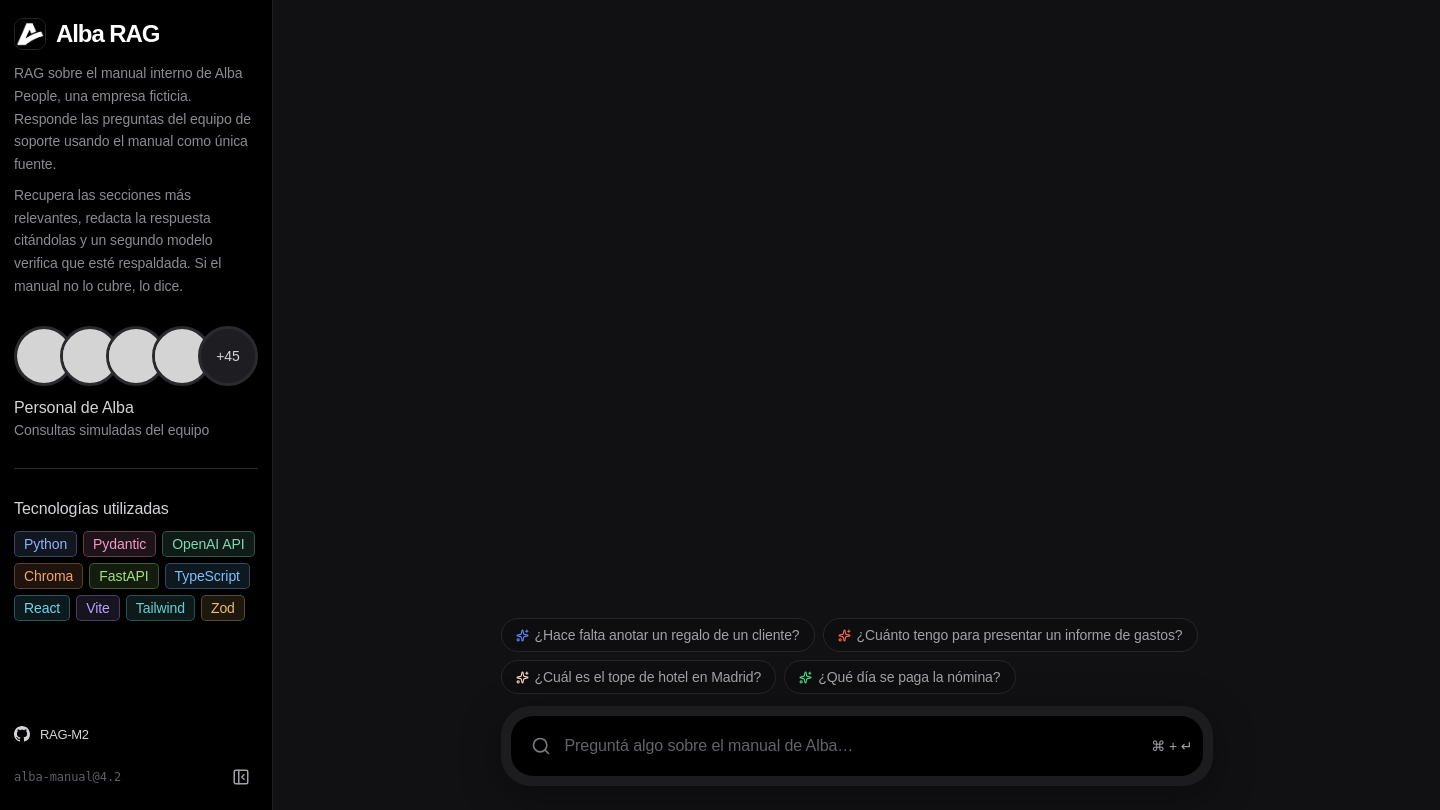
WorkbenchContainer › asks the question, renders the answer with its sources and detail card, and opens the panel state when the card is clicked
The width and height of the screenshot is (1440, 810).
Type "¿Cómo solicito vacaciones?" into the field named "Escribí tu pregunta" at [851, 746], box x1=564 y1=734 x2=1137 y2=758
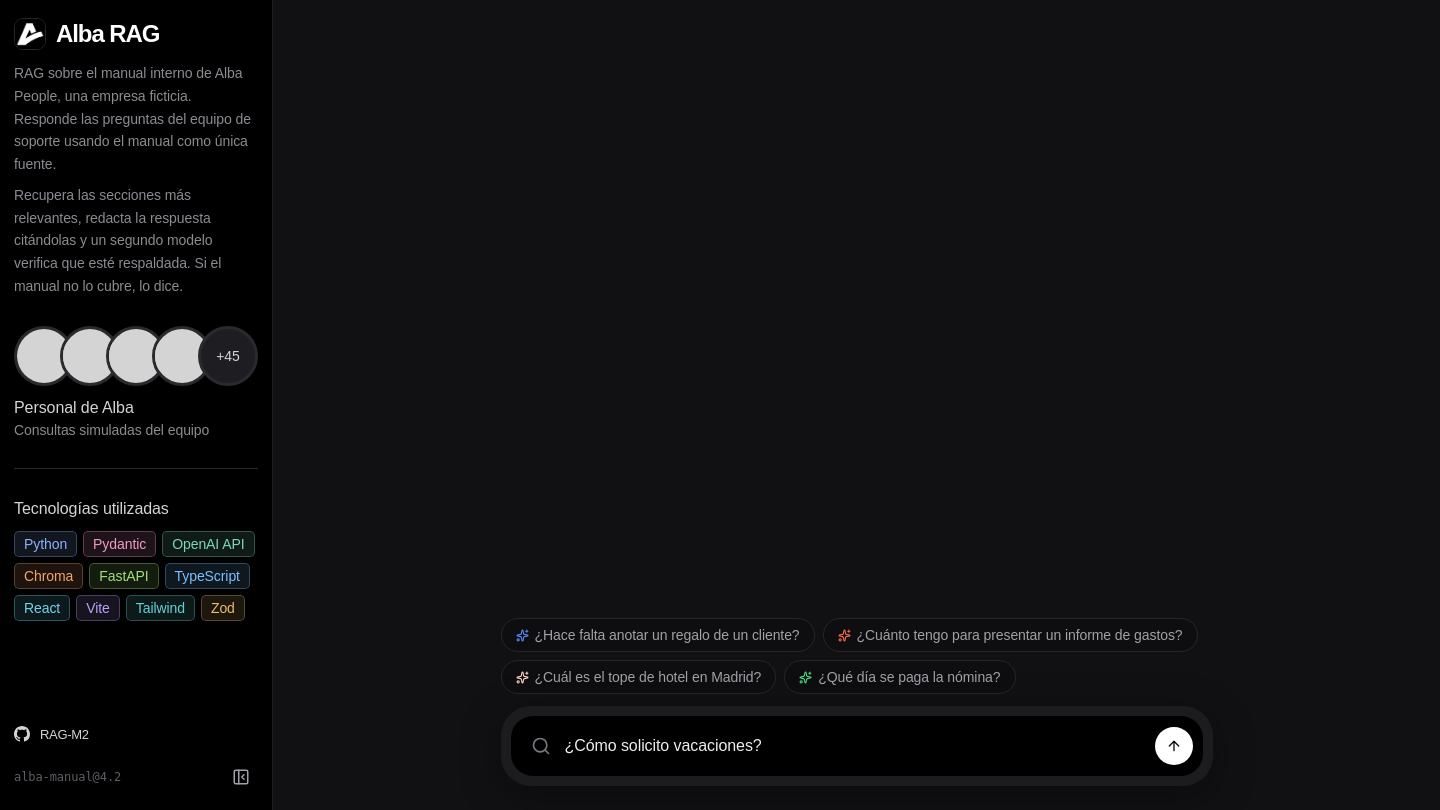
Click the button named "Enviar pregunta" at [1174, 746], box x1=1154 y1=727 x2=1192 y2=765
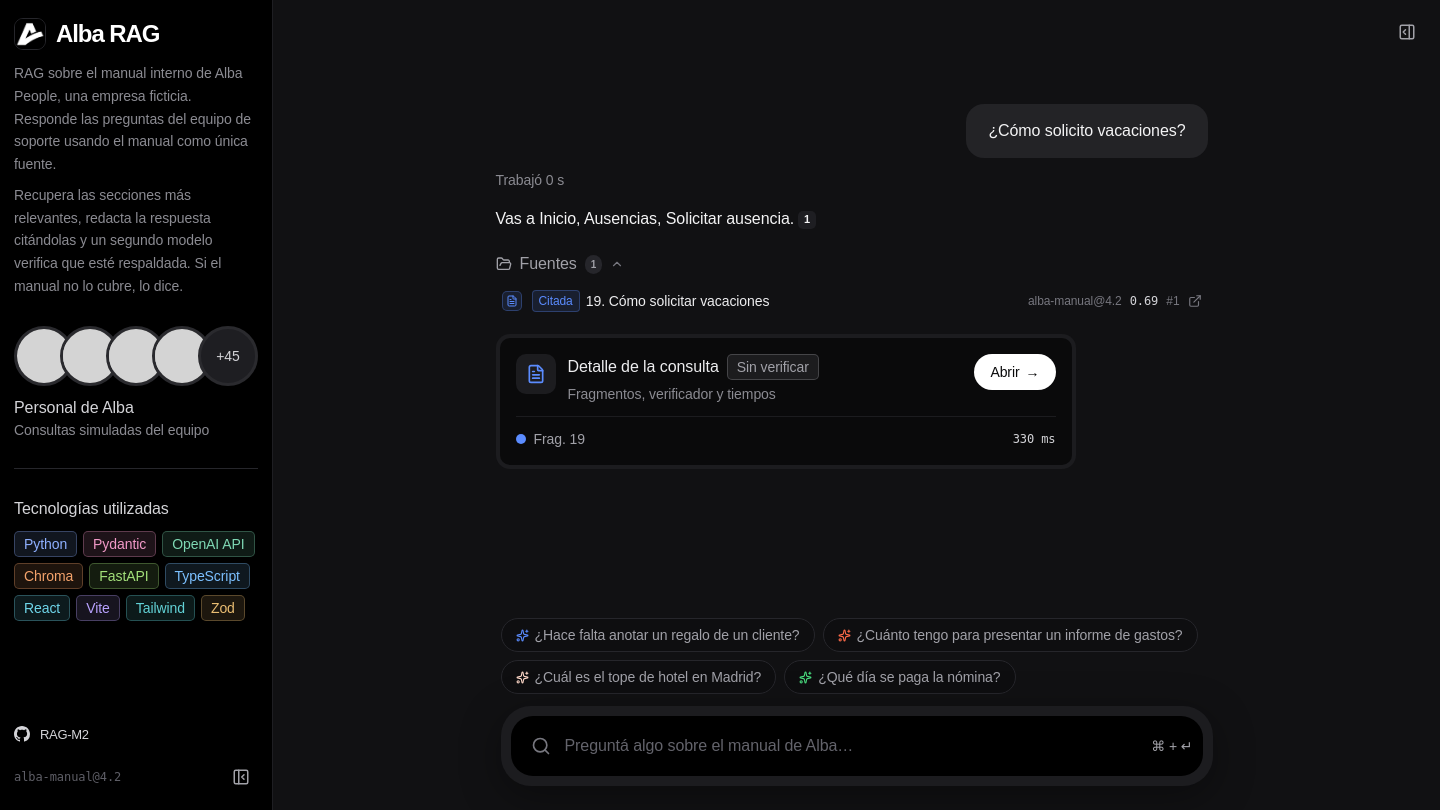
Expected: the text "Vas a Inicio, Ausencias, Solicitar ausencia." is shown, x1=496 y1=210 x2=794 y2=227
Expected: the button named "Ver fragmento 1" is shown, x1=798 y1=211 x2=816 y2=229
Expected: the text "Fuentes" is shown, x1=520 y1=252 x2=577 y2=276
Click the button "Detalle de la consulta" at [786, 402], box x1=496 y1=334 x2=1076 y2=469
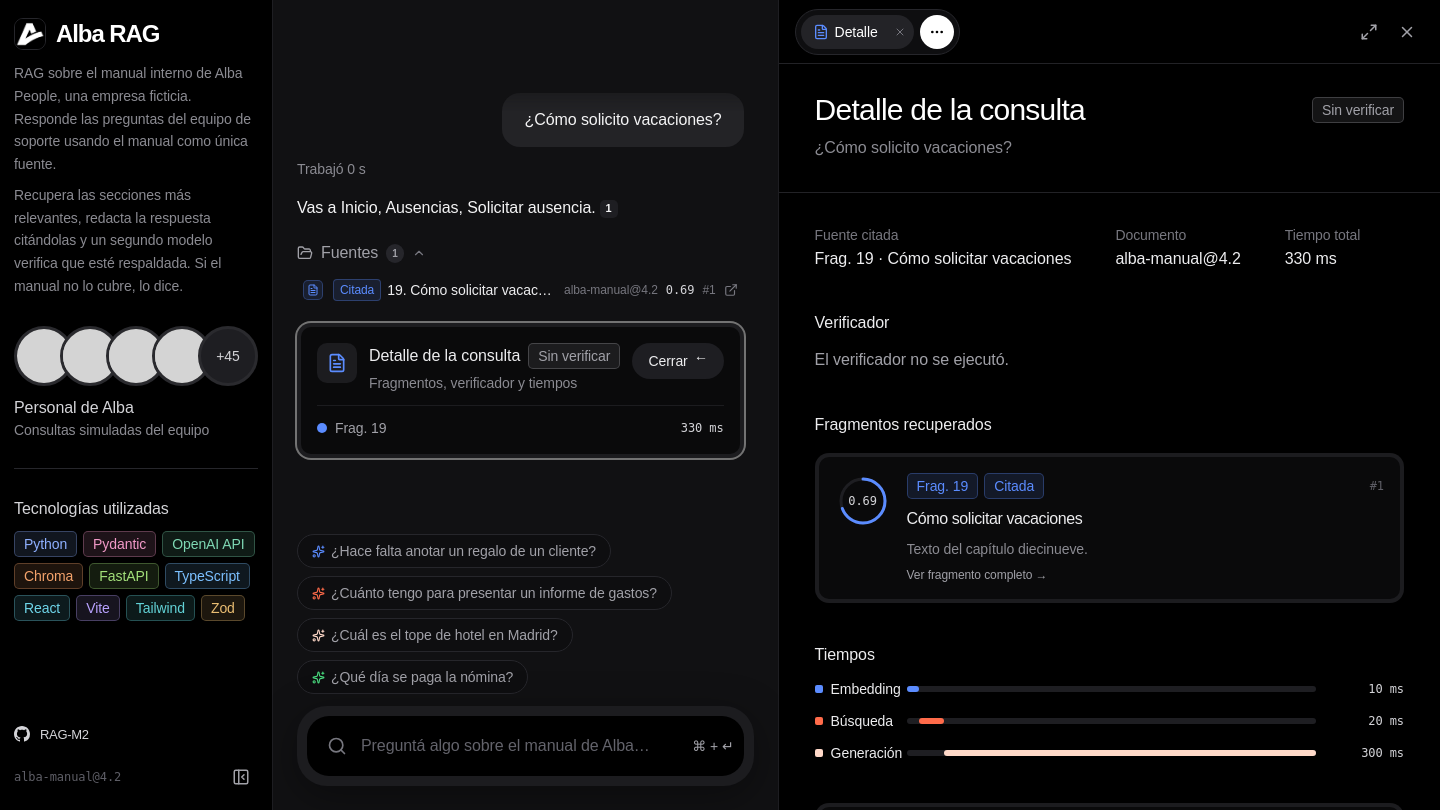
Expected: the button "Detalle de la consulta" shows "Cerrar", x1=297 y1=323 x2=744 y2=458
